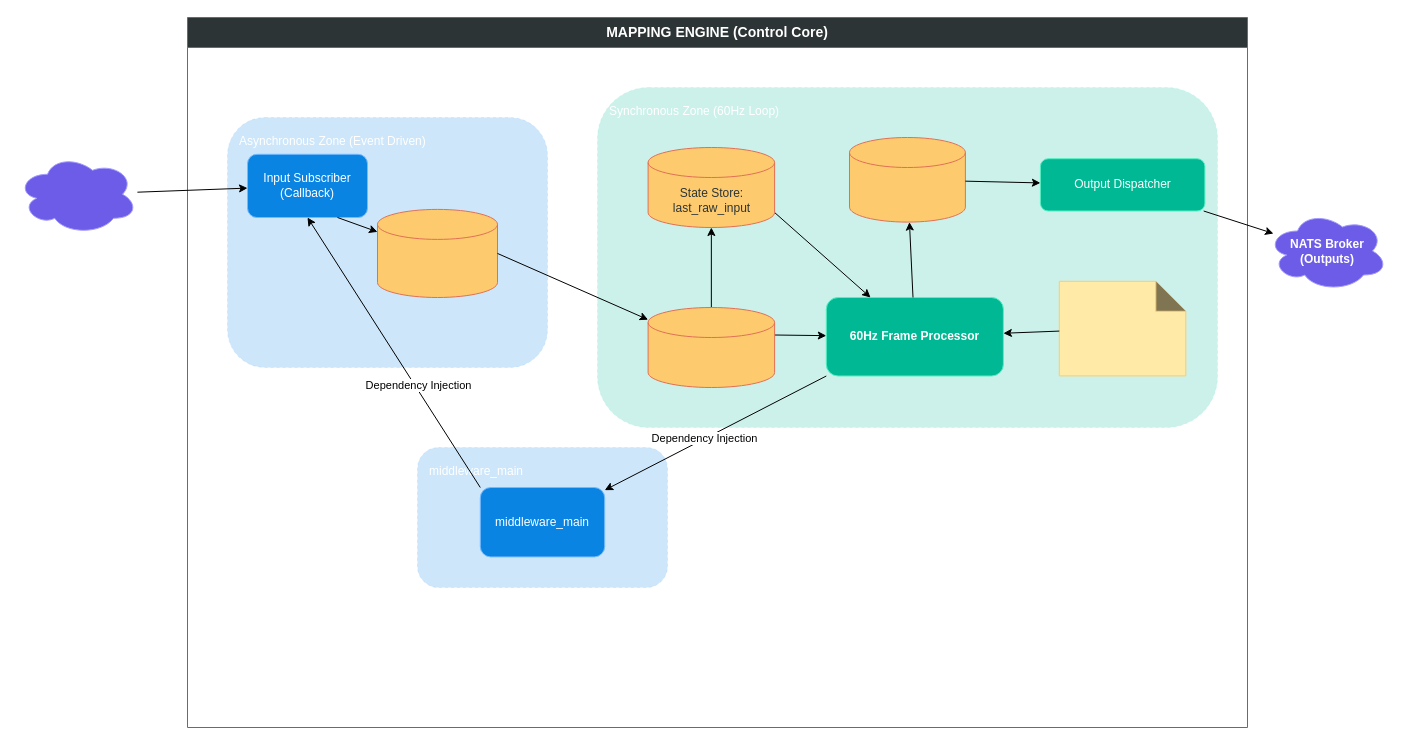
Image size: 1405x745. Some labels were removed from this diagram. The centre of each missing label's shape, as x and y in pixels:
Mapping Profile (JSON Rules): (1122,328)
NATS Broker (Inputs): (77,193)
State Store : current_raw_input: (437,253)
State Store : virtual_output_state: (906,179)
State Store: snapshot: (711,347)
